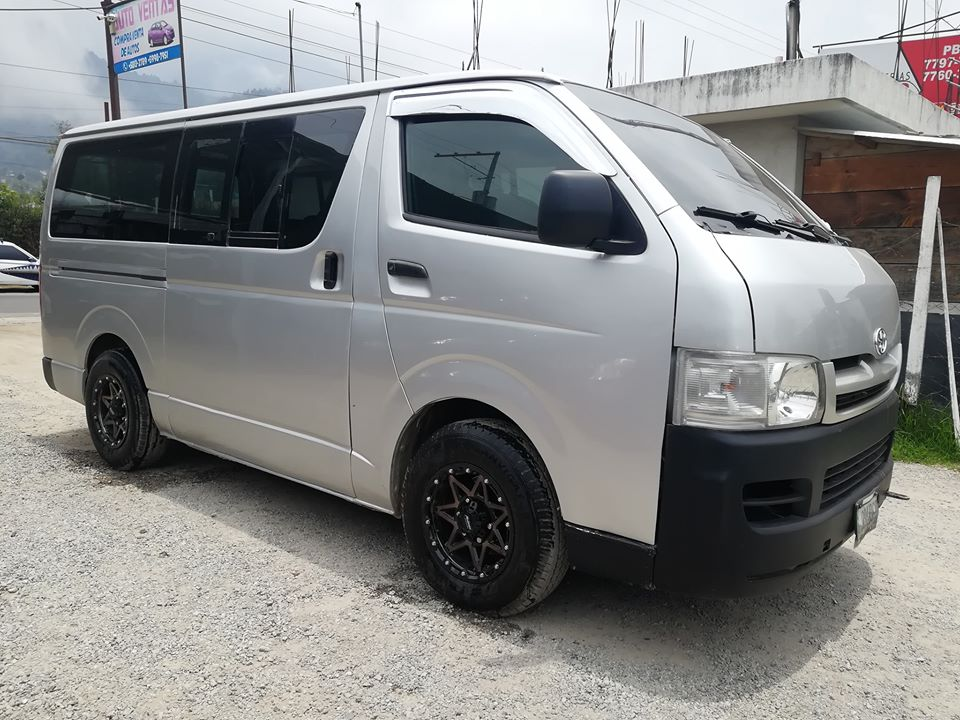bus: (37, 68, 906, 631)
